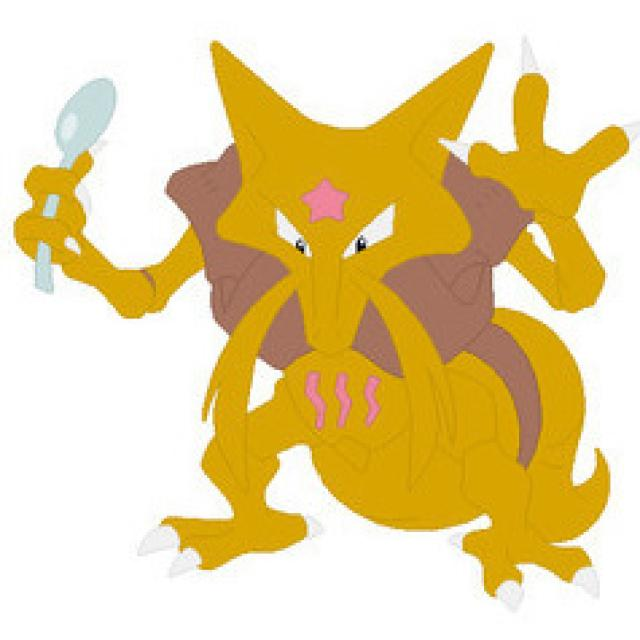Kadabra: (180, 26, 526, 490)
